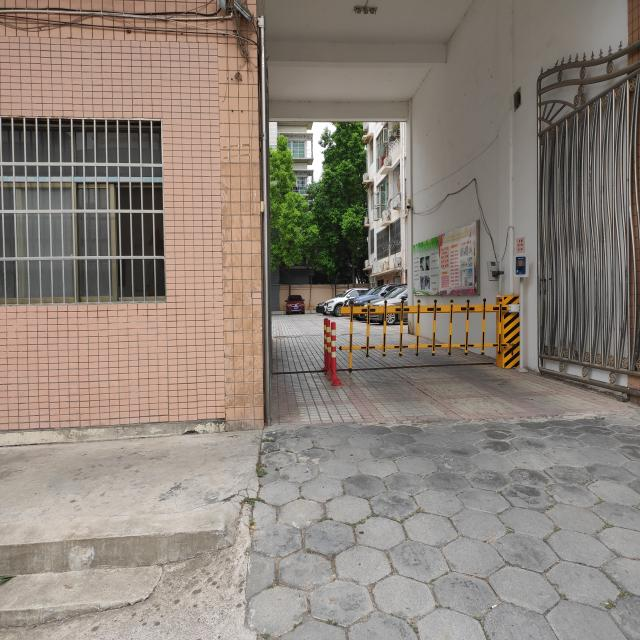car: (367, 286, 407, 324), (325, 286, 368, 316), (284, 294, 305, 314)
warning_column: (329, 321, 340, 381), (325, 320, 331, 375), (322, 317, 328, 370)
